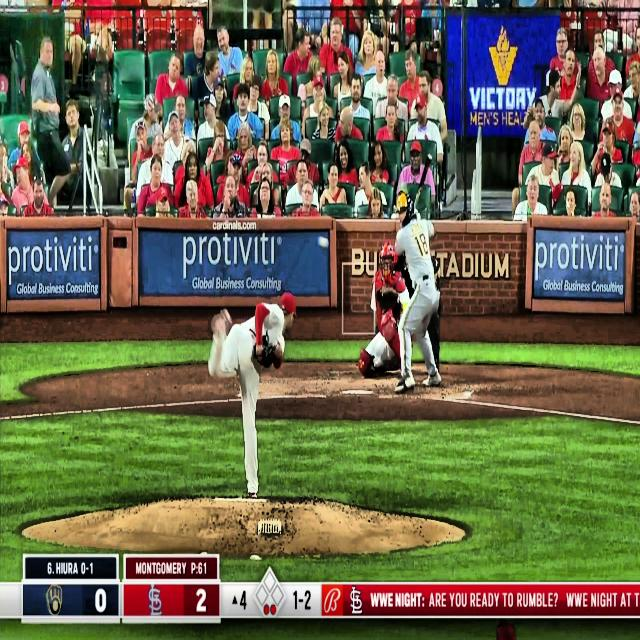baseball: (317, 234, 330, 251)
